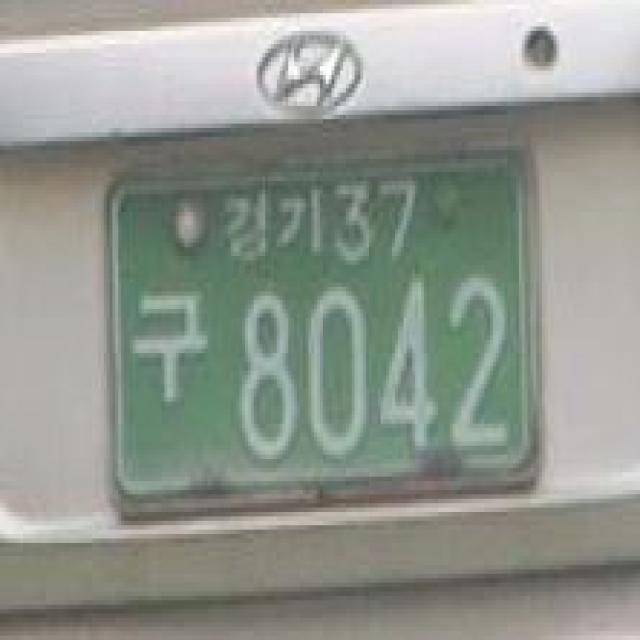illegal_plate: (80, 139, 558, 536)
